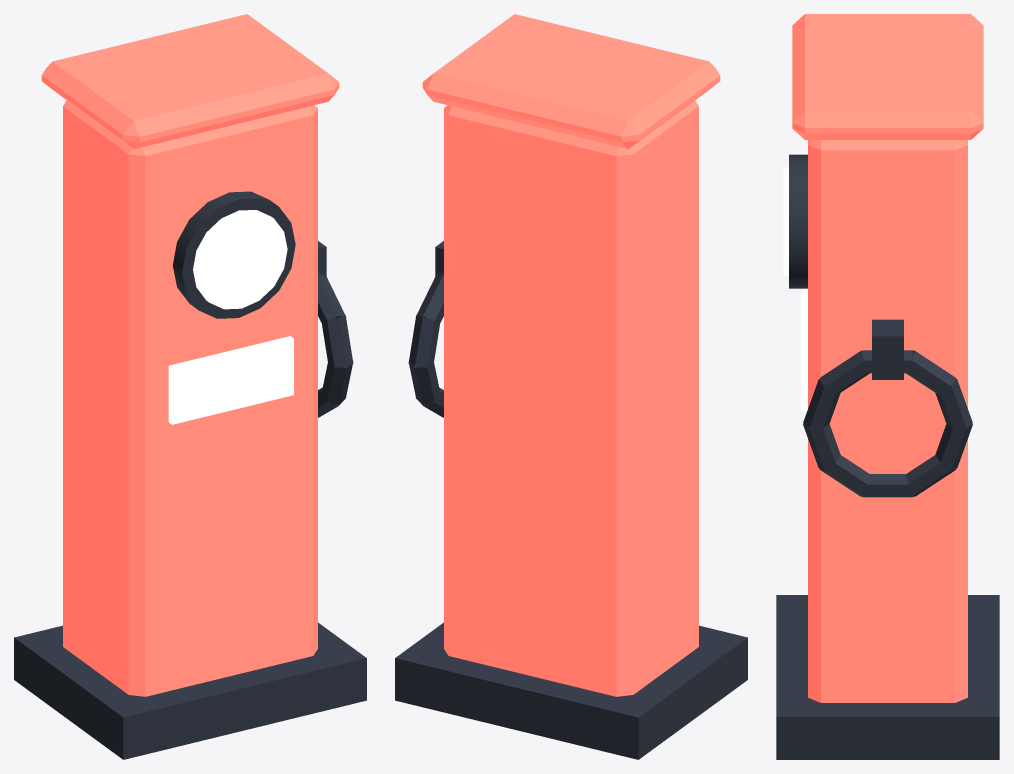
Rendered from air-machine.glb.
3 renders of one model, left to right at view 1: azimuth 30°, elevation 25°; view 2: azimuth 150°, elevation 25°; view 3: azimuth 270°, elevation 25°, orthographic. The views are drawn at different scales.
Visible parts, largest first — view 1: Air_Body, Air_Dark, Air_Glow; view 2: Air_Body, Air_Dark; view 3: Air_Body, Air_Dark, Air_Glow.
Part boxes in pixels (<box>): Air_Body: <box>41,14,339,696</box>; Air_Dark: <box>14,191,366,759</box>; Air_Glow: <box>168,210,293,424</box>; Air_Body: <box>422,14,720,696</box>; Air_Dark: <box>395,241,747,759</box>; Air_Body: <box>792,14,983,702</box>; Air_Dark: <box>776,154,999,759</box>; Air_Glow: <box>783,167,807,411</box>.
Bounding box in the file's own units: 1.85 × 4.4 × 1.4.
